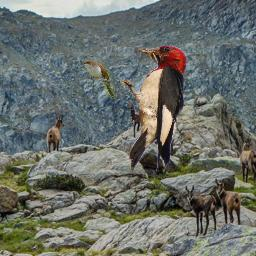Cuckoo: (78, 60, 115, 99)
Woodpecker: (120, 45, 187, 173)
